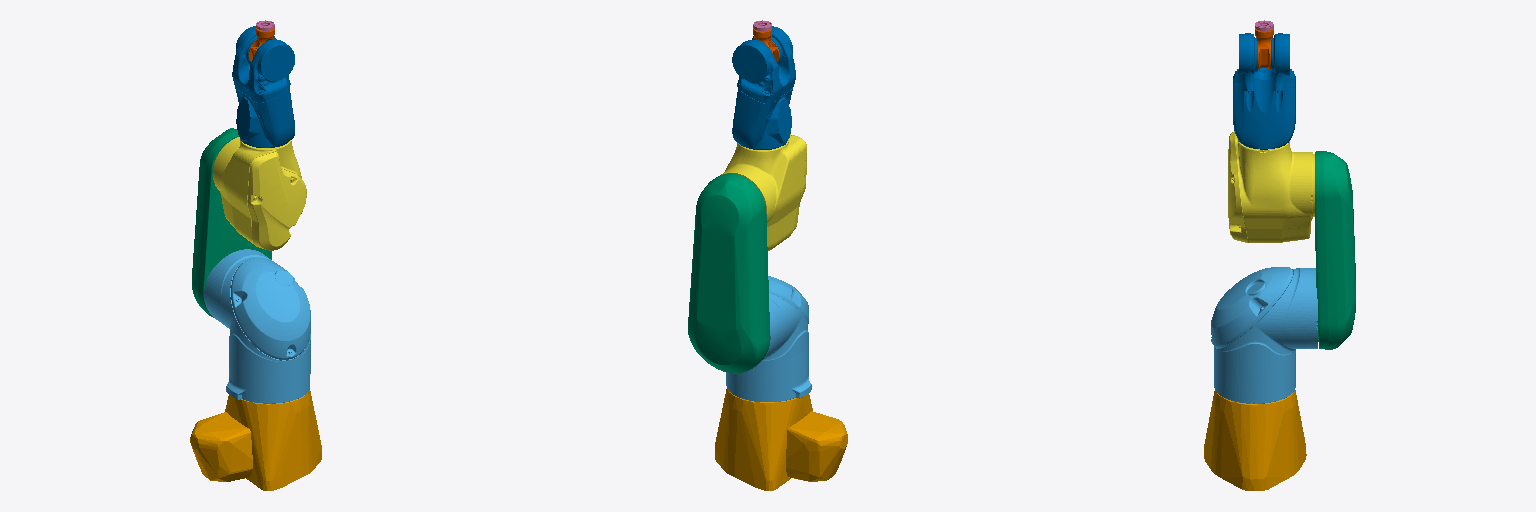
The robot description file, URDF, robot "tx2_60":
<?xml version="1.0" ?>
<robot name="tx2_60">
  <link name="base_link">
    <visual>
    <origin rpy="0.0 0 0" xyz="0 0 0"/>
      <geometry>
        <mesh filename="package://tx2_60_description/mesh/BASE_simplified.stl" scale="0.001 0.001 0.001"/>
      </geometry>
    </visual>
  </link>
  
  <link name="tx2_60_link1">
    <visual>
    <origin rpy="0.0 0 0" xyz="0 0 0.022"/>
      <geometry>
        <mesh filename="package://tx2_60_description/mesh/J1.stl" scale="0.001 0.001 0.001"/>
      </geometry>
    </visual>
  </link>
  
  <joint name="tx2_60_joint1" type="revolute">
    <origin rpy="0 0 0" xyz="0 0 0.188"/>
    <parent link="base_link"/>
    <child link="tx2_60_link1"/>
    <axis xyz="0 0 1"/>
    <limit effort="87" lower="-3.1416" upper="3.1416" velocity="435" />
  </joint>
  
  <link name="tx2_60_link2">
    <visual>
    <origin rpy="1.5708 0 0" xyz="0 0 -0.028"/>
      <geometry>
        <mesh filename="package://tx2_60_description/mesh/J2_simplified.stl" scale="0.001 0.001 0.001"/>
      </geometry>
    </visual>
  </link>
  
  <joint name="tx2_60_joint2" type="revolute">
    <origin rpy="-1.5708 0 0" xyz="0 0.145 0.187"/>
    <parent link="tx2_60_link1"/>
    <child link="tx2_60_link2"/>
    <axis xyz="0 0 1"/>
    <limit effort="87" lower="-2.22529" upper="2.22529" velocity="410"/>
  </joint>
  
  <link name="tx2_60_link3">
    <visual>
    <origin rpy="-1.5708 0 0" xyz="0 0 0.020"/>
      <geometry>
        <mesh filename="package://tx2_60_description/mesh/J3.stl" scale="0.001 0.001 0.001"/>
      </geometry>
    </visual>
  </link>
  
  <joint name="tx2_60_joint3" type="revolute">
    <origin rpy="3.1416 0 0" xyz="0 -0.29 0"/>
    <parent link="tx2_60_link2"/>
    <child link="tx2_60_link3"/>
    <axis xyz="0 0 -1"/>
    <limit effort="87" lower="-2.48709" upper="2.48709" velocity="540"/>
  </joint>
  
  <link name="tx2_60_link4">
    <visual>
    <origin rpy="0.0 0 0" xyz="0 0 -0.038"/>
      <geometry>
        <mesh filename="package://tx2_60_description/mesh/J4_simplified.stl" scale="0.001 0.001 0.001"/>
      </geometry>
    </visual>
  </link>
  
  <joint name="tx2_60_joint4" type="revolute">
    <origin rpy="-1.5708 0 0" xyz="0 0.1255 0.125"/>
    <parent link="tx2_60_link3"/>
    <child link="tx2_60_link4"/>
    <axis xyz="0 0 1"/>
    <limit effort="87" lower="-4.712389" upper="4.712389" velocity="995"/>
  </joint>
  
  <link name="tx2_60_link5">
    <visual>
    <origin rpy="0.0 0 0" xyz="0 0 0"/>
      <geometry>
        <mesh filename="package://tx2_60_description/mesh/J5.stl" scale="0.001 0.001 0.001"/>
      </geometry>
    </visual>
  </link>
  
  <joint name="tx2_60_joint5" type="revolute">
    <origin rpy="0 0 0" xyz="0 0 0.1845"/>
    <parent link="tx2_60_link4"/>
    <child link="tx2_60_link5"/>
    <axis xyz="0 1 0"/>
    <limit effort="87" lower="-1.74533" upper="1.91986" velocity="1065"/>
  </joint>
  
  <link name="tx2_60_link6">
    <visual>
    <origin rpy="0.0 0 0" xyz="0 0 -0.07"/>
      <geometry>
        <mesh filename="package://tx2_60_description/mesh/J6.stl" scale="0.001 0.001 0.001"/>
      </geometry>
    </visual>
  </link>
  
  <joint name="tx2_60_joint6" type="revolute">
    <origin rpy="0 0 0" xyz="0 0 0.070"/>
    <parent link="tx2_60_link5"/>
    <child link="tx2_60_link6"/>
    <axis xyz="0 0 1"/>
    <limit effort="87" lower="-4.712389" upper="4.712389" velocity="1445"/>
  </joint>
  
  <link name="ee_link"/>
  
  <joint name="ee_fixed_joint" type="fixed">
    <parent link="tx2_60_link6"/>
    <child link="ee_link"/>
    <origin rpy="0 0.0 0" xyz="0.0 0.0 0.147"/>
  </joint>
</robot>

--- Facts derived from the render (not from the file) ---
The picture shows the robot from 3 angles, left to right: view 1: azimuth 30°, elevation 25°; view 2: azimuth 150°, elevation 25°; view 3: azimuth 270°, elevation 25°; orthographic projection.
Robot: tx2_60 — 8 links, 7 joints (6 revolute, 1 fixed); root link base_link; default pose: all joints at 0.
Links seen in each view (by area): view 1: tx2_60_link1, base_link, tx2_60_link3, tx2_60_link4, tx2_60_link2; view 2: tx2_60_link2, base_link, tx2_60_link4, tx2_60_link1, tx2_60_link3; view 3: tx2_60_link1, tx2_60_link3, base_link, tx2_60_link2, tx2_60_link4, tx2_60_link5.
Boxes of the visible links, <box> form: tx2_60_link1: <box>204,249,310,403</box>; base_link: <box>190,390,321,490</box>; tx2_60_link3: <box>213,137,306,250</box>; tx2_60_link4: <box>232,26,294,147</box>; tx2_60_link2: <box>192,128,271,317</box>; tx2_60_link2: <box>688,173,769,373</box>; base_link: <box>715,389,847,490</box>; tx2_60_link4: <box>732,26,795,149</box>; tx2_60_link1: <box>726,276,811,401</box>; tx2_60_link3: <box>721,134,806,250</box>; tx2_60_link1: <box>1211,267,1317,403</box>; tx2_60_link3: <box>1228,131,1314,242</box>; base_link: <box>1204,390,1306,490</box>; tx2_60_link2: <box>1315,151,1355,349</box>; tx2_60_link4: <box>1233,33,1295,149</box>; tx2_60_link5: <box>1255,28,1273,69</box>.
Size in the robot's own frame: 0.3116 by 0.3274 by 1.05 metres.
Meshes: 7 distinct files referenced, 7 mesh visuals loaded (7 binary STL).
